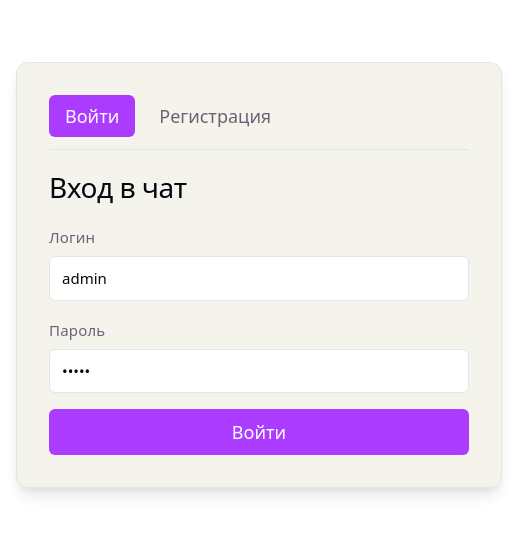
it: App › registration › switches between login and registration tabs
This screenshot has width=519, height=560.
What coordinates should you click on to do the following:
click the button "Регистрация"
I would click on:
 (215, 116)
Its box is [143,95,287,137].
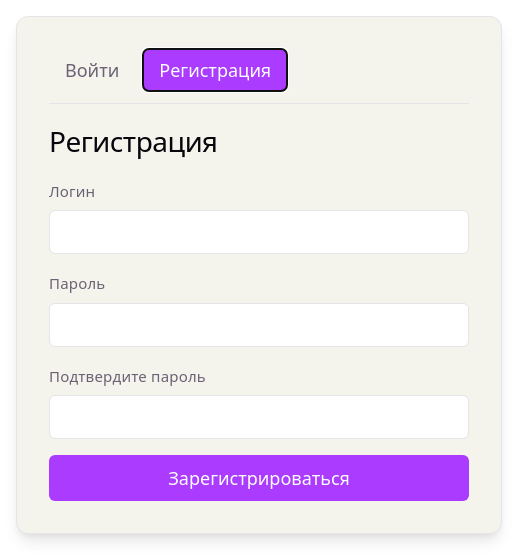
Expected: the password field labelled "Подтвердите пароль" is shown, [49,395,469,439]
Now the heading "Регистрация" is shown, box [49,122,217,160]
What coordinates should you click on to do the following:
click the button "Войти"
I would click on:
 (92, 70)
Its box is [49,49,135,91].
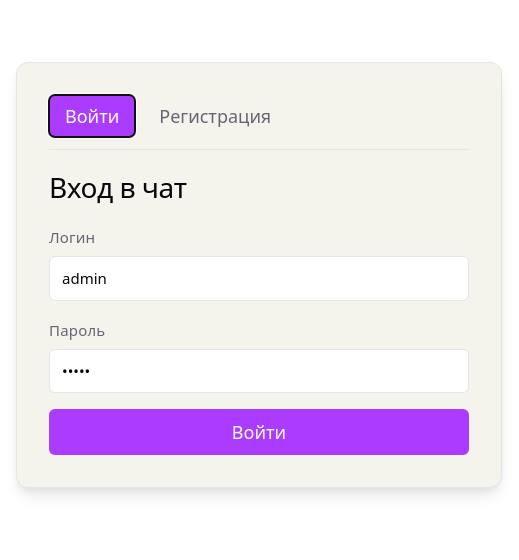
Now the heading "Вход в чат" is shown, box [49,168,187,206]
